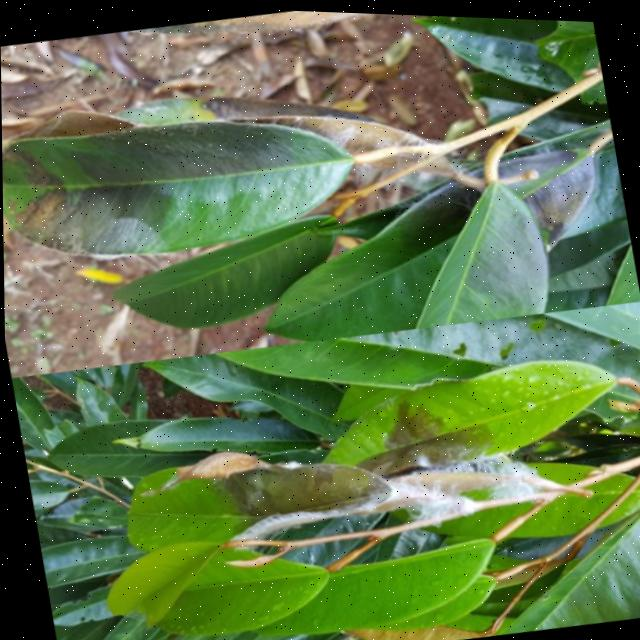Leaf_Blight: (163, 356, 537, 615), (1, 61, 378, 288), (408, 140, 604, 332), (409, 12, 611, 147)
